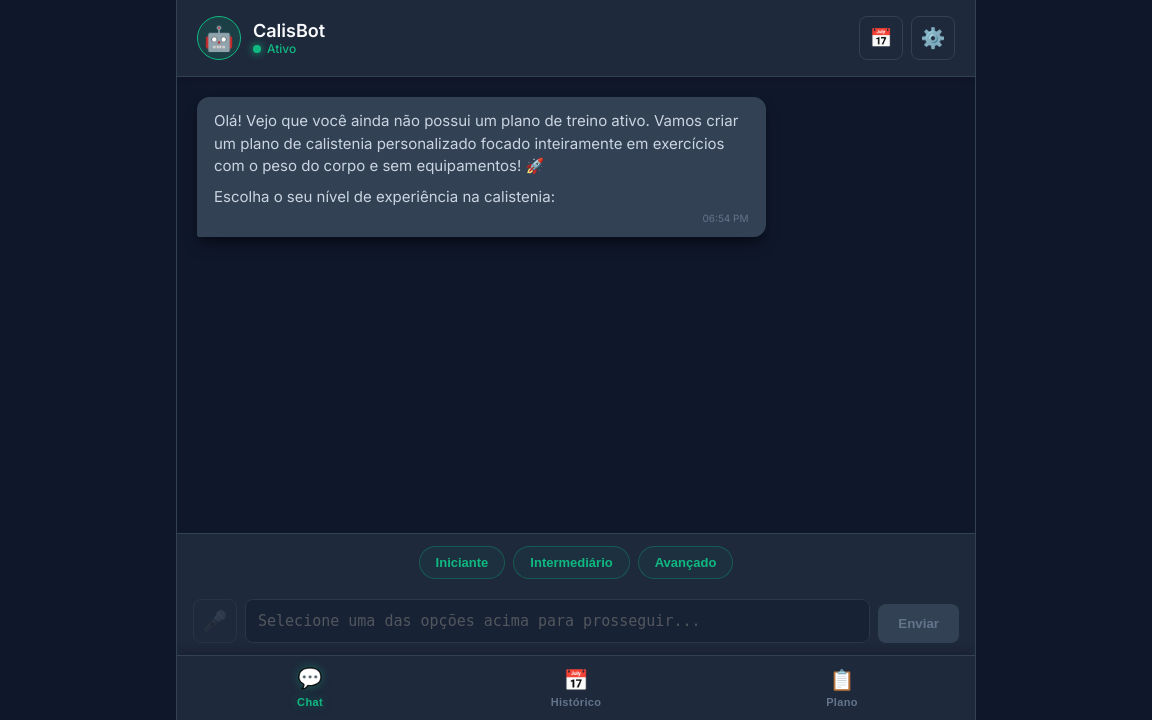
Scenario: CalisBot App & Components › completes guided plan creation flow and saves to IndexedDB
Note: Click Iniciante
Click the button "Iniciante". click: (462, 562)
box: [419,546,505,579]
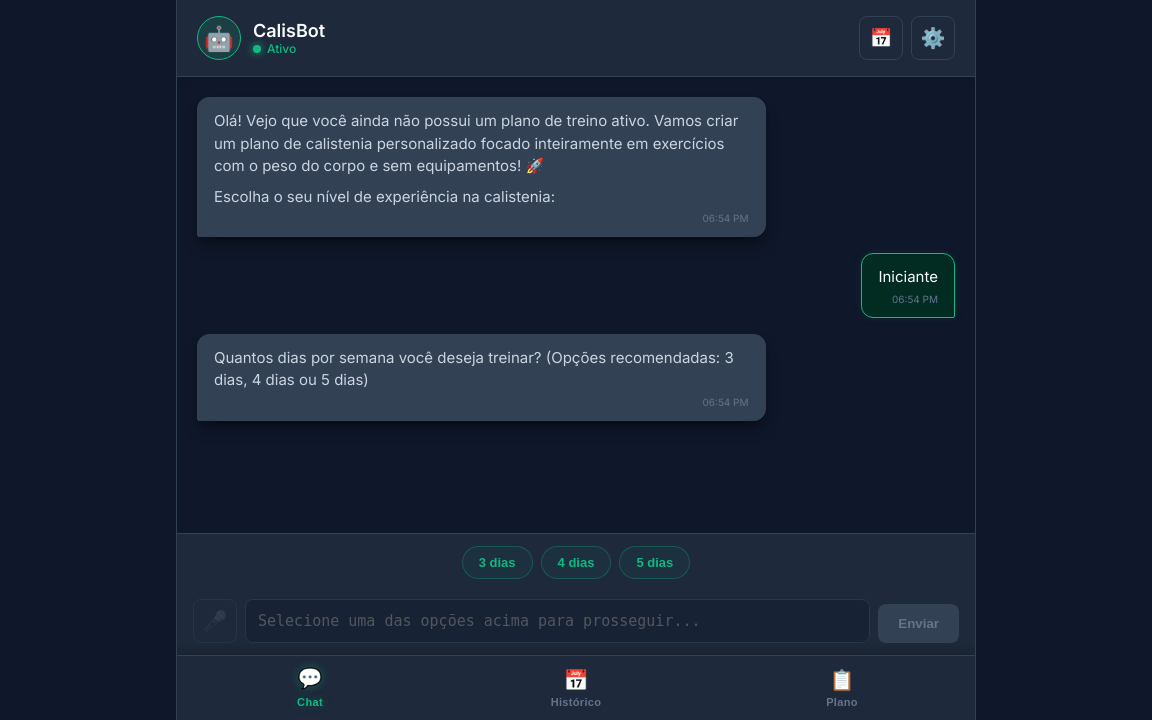
Now the button "3 dias" is shown
Note: Click 3 dias
Click the button "3 dias". click: (497, 562)
box: [462,546,533,579]
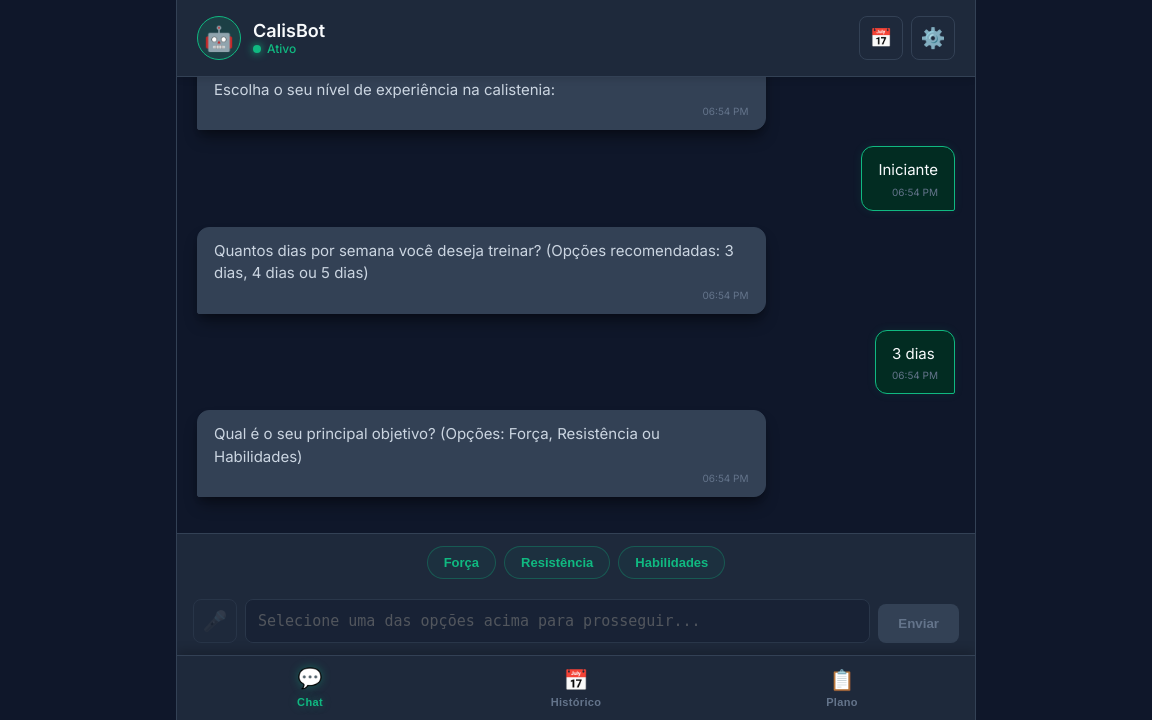
Now the button "Força" is shown
Note: Click Força
Click the button "Força". click: (461, 562)
box: [427,546,496,579]
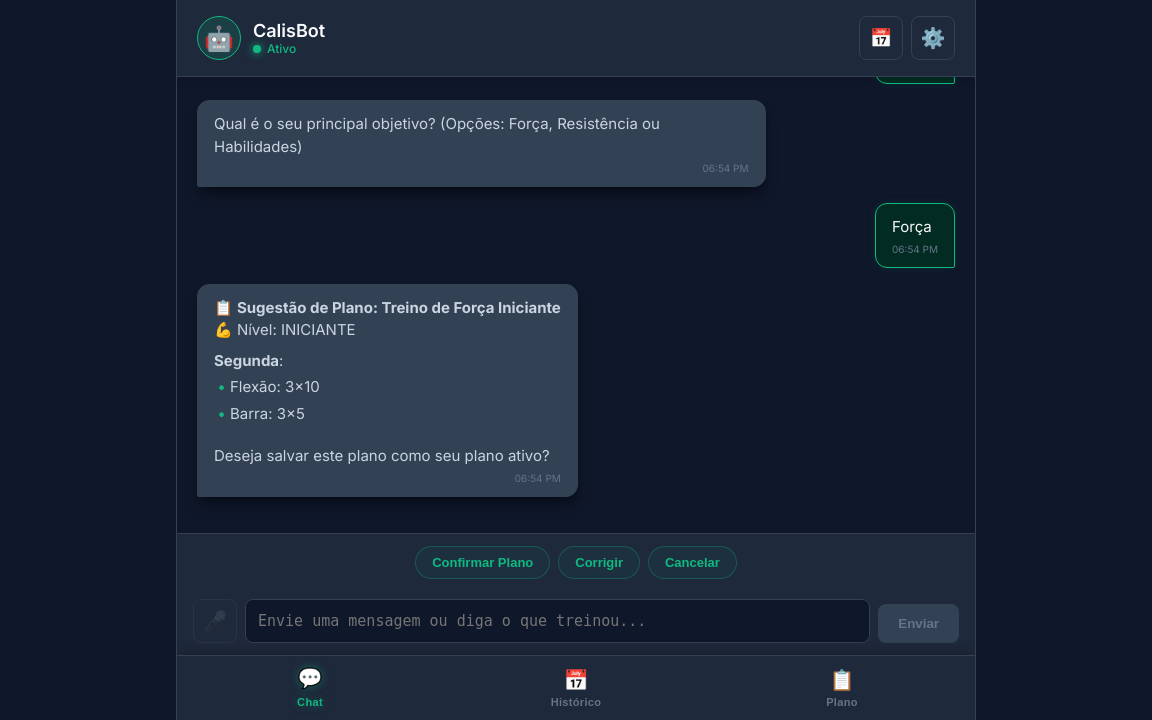
Now the text "Sugestão de Plano: Treino de Força Iniciante" is shown, box [237,298,561,316]
Now the button "Confirmar Plano" is shown
Click the button "Confirmar Plano". click: (483, 562)
box: [415,546,550,579]
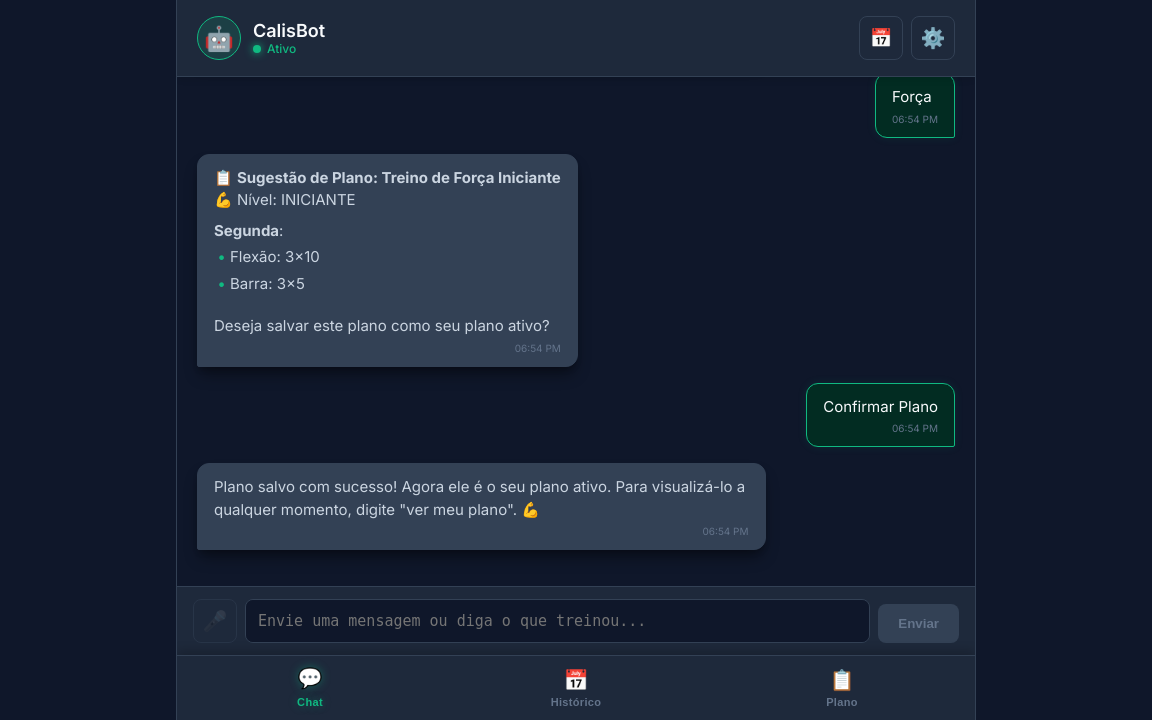
Now the text "Segunda" is shown, box [214,220,279,240]
Now the text "Plano salvo com sucesso!" is shown, box [214,477,745,518]
